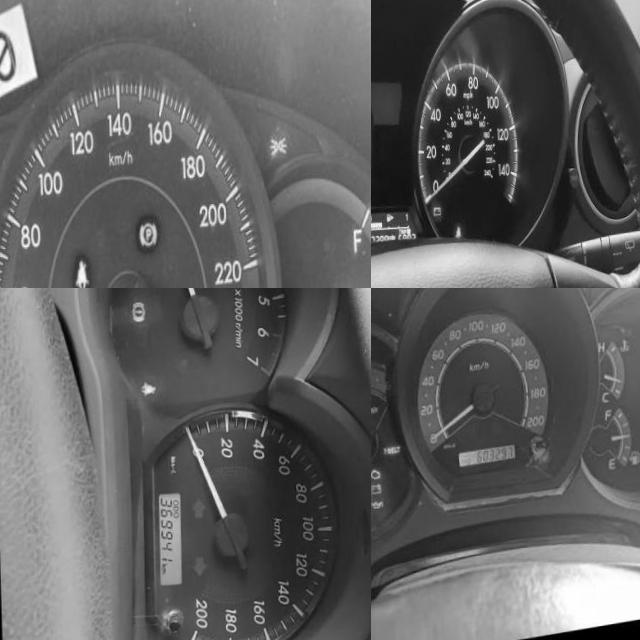Seat Belt: (70, 263, 87, 288), (140, 384, 155, 400)
